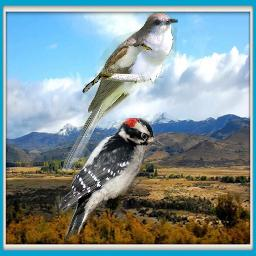Cuckoo: (61, 12, 178, 172), (81, 41, 153, 93)
Woodpecker: (59, 118, 167, 242)
